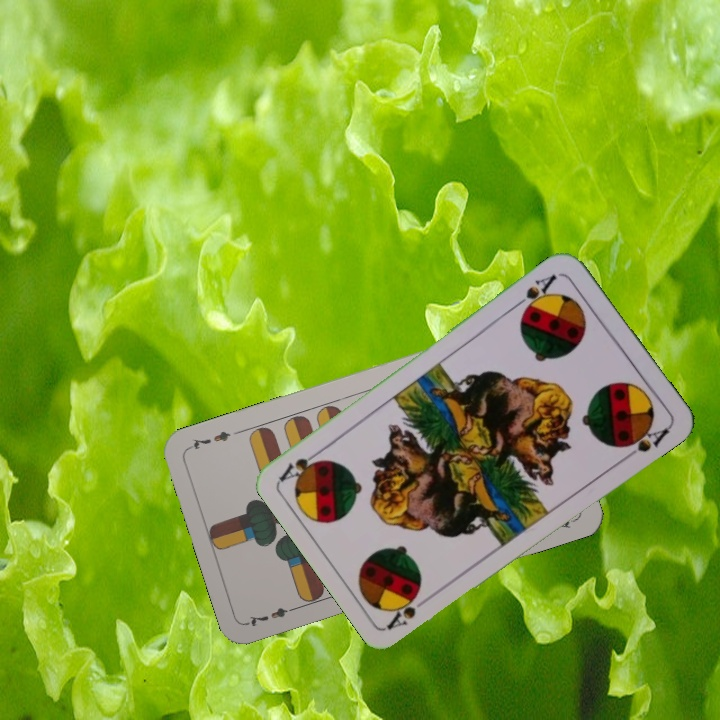E7: (244, 602, 302, 629)
SA: (383, 587, 435, 632), (511, 270, 560, 317)
